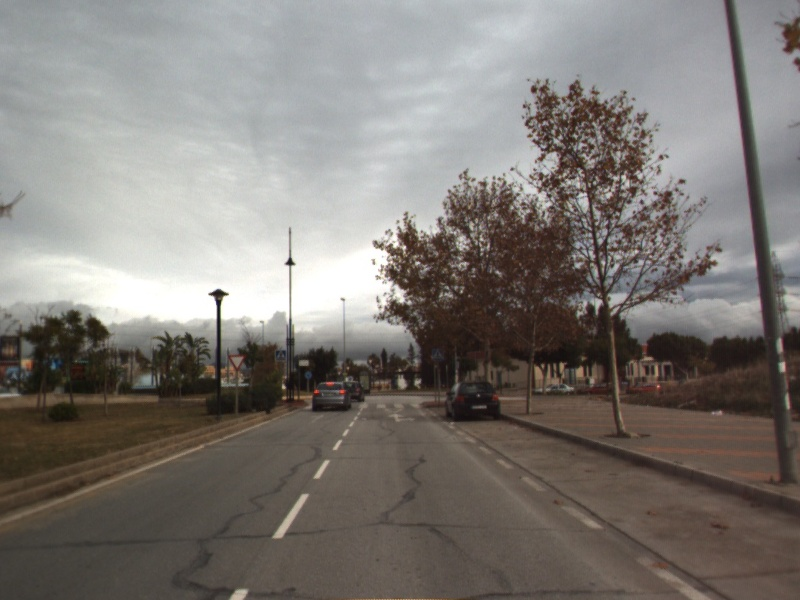STRAIGHT_RIGHT: (385, 412, 418, 424)
